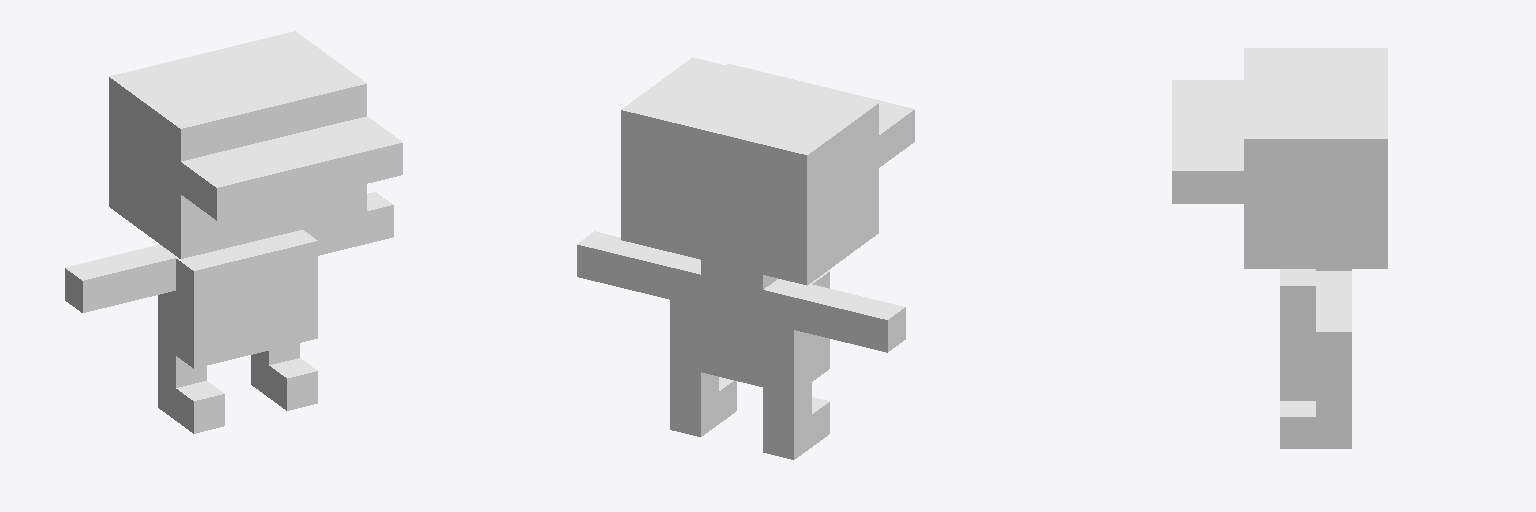
File: Jimmy.obj
3 views of the same model, side by side, from view 1: azimuth 30°, elevation 25°; view 2: azimuth 150°, elevation 25°; view 3: azimuth 270°, elevation 25° (orthographic).
Parts seen in each view (by area): view 1: object 1; view 2: object 1; view 3: object 1.
Boxes of the visible parts, <box> form: object 1: <box>65,31,402,433</box>; object 1: <box>577,57,914,459</box>; object 1: <box>1172,48,1387,448</box>.
Bounding box in the file's own units: 1 × 1 × 0.6.